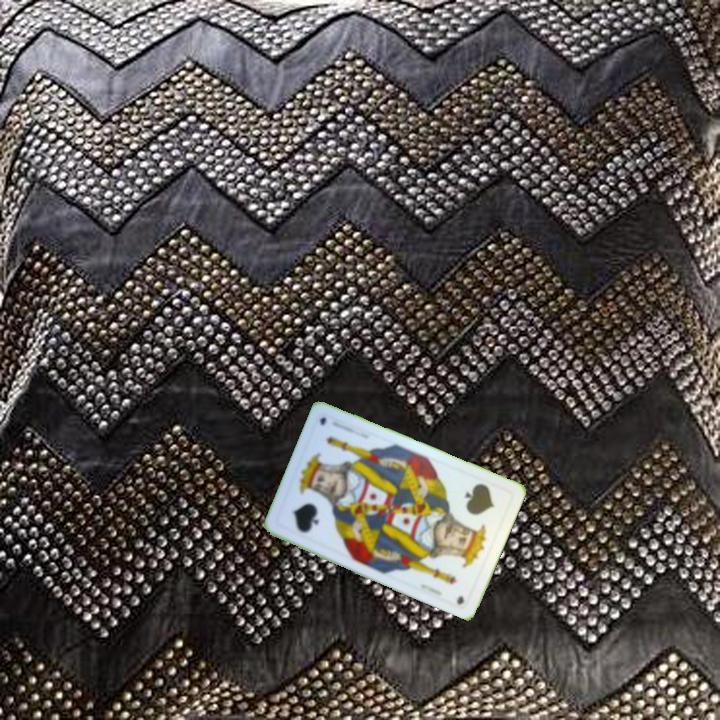s_k.png: (437, 470, 515, 553), (272, 468, 350, 550)
